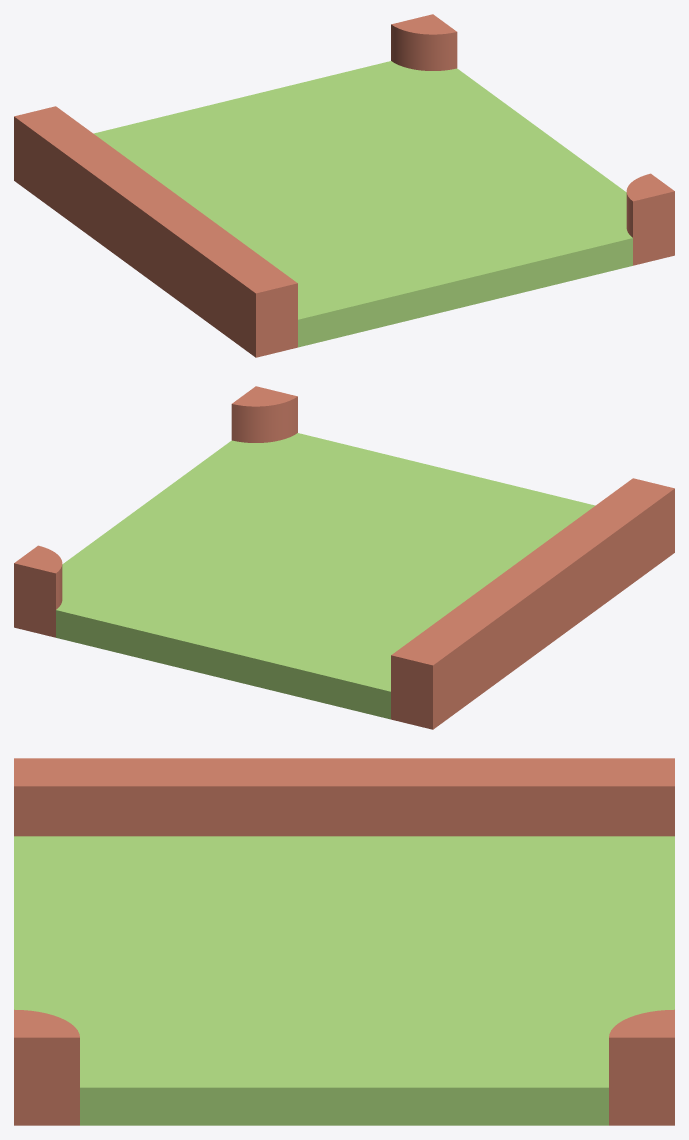
Rendered from T_split_01.glb.
3 views of the same model, one above another, from view 1: azimuth 30°, elevation 25°; view 2: azimuth 150°, elevation 25°; view 3: azimuth 270°, elevation 25° (orthographic). The views are drawn at different scales.
Parts seen in each view (by area): view 1: Mesh1 T_split Model; view 2: Mesh1 T_split Model; view 3: Mesh1 T_split Model.
Boxes of the visible parts, <box> form: Mesh1 T_split Model: <box>14,14,674,357</box>; Mesh1 T_split Model: <box>14,386,674,729</box>; Mesh1 T_split Model: <box>14,758,674,1125</box>.
Size of the model in its own units: 3 by 0.44 by 3.
